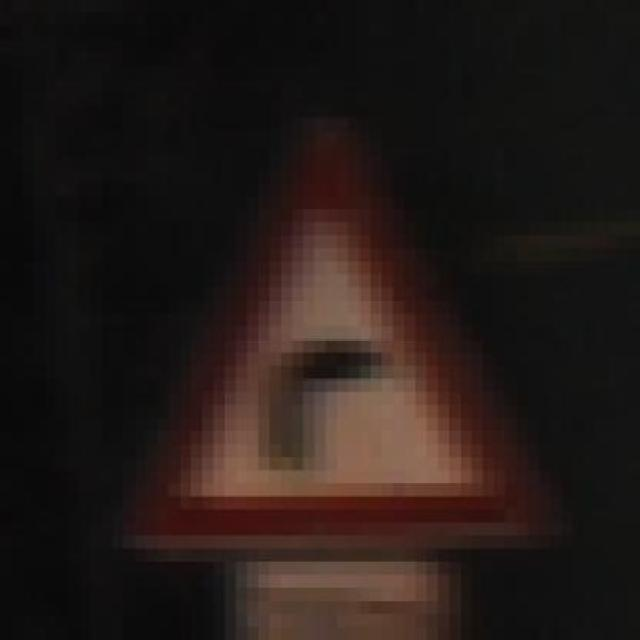Dangerous Rright Curve Ahead: (134, 104, 561, 562)
